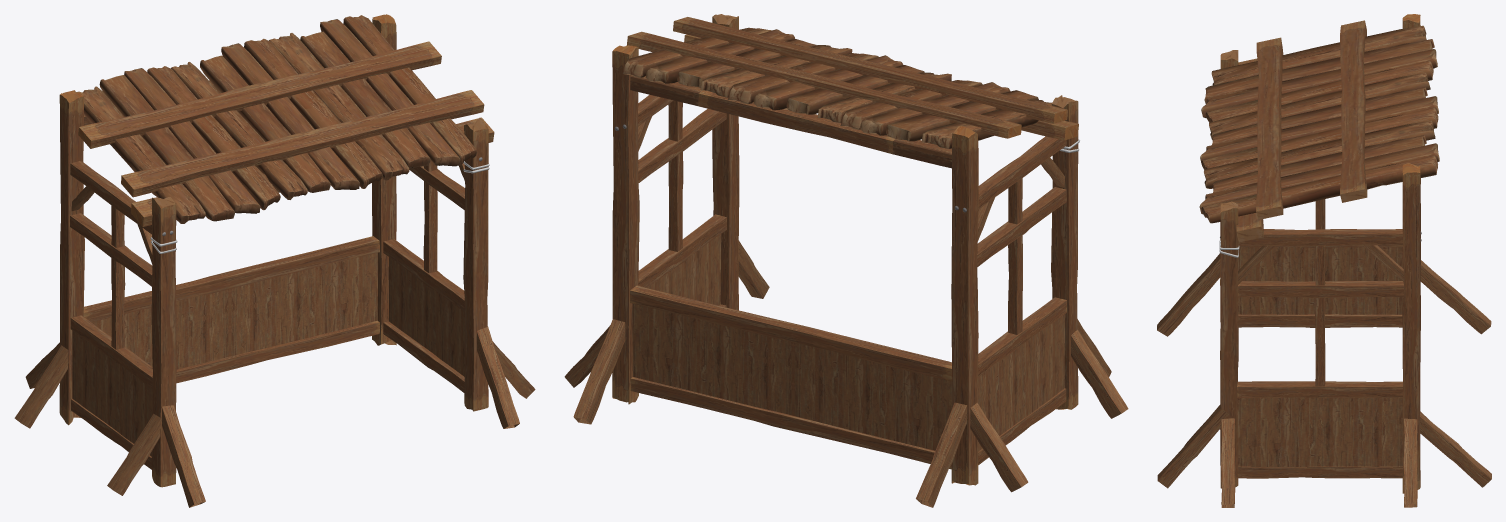
Rendered from SM_Farm_Shed_01.fbx.
3 renders of one model, left to right at view 1: azimuth 30°, elevation 25°; view 2: azimuth 150°, elevation 25°; view 3: azimuth 270°, elevation 25°, orthographic. The views are drawn at different scales.
Visible parts, largest first — view 1: SM_Farm_Shed_01_LOD0; view 2: SM_Farm_Shed_01_LOD0; view 3: SM_Farm_Shed_01_LOD0.
Boxes of the visible parts, x1,y1,x2,y2 form: SM_Farm_Shed_01_LOD0: (14,14,535,507); SM_Farm_Shed_01_LOD0: (564,14,1128,507); SM_Farm_Shed_01_LOD0: (1157,14,1491,507).
Bounding box in the file's own units: 530 × 392 × 368.
